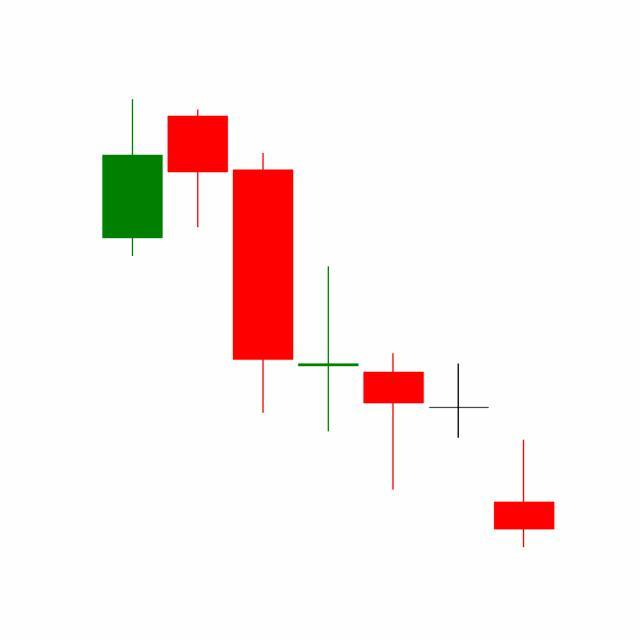Hikkake Pattern: (229, 148, 555, 548)
